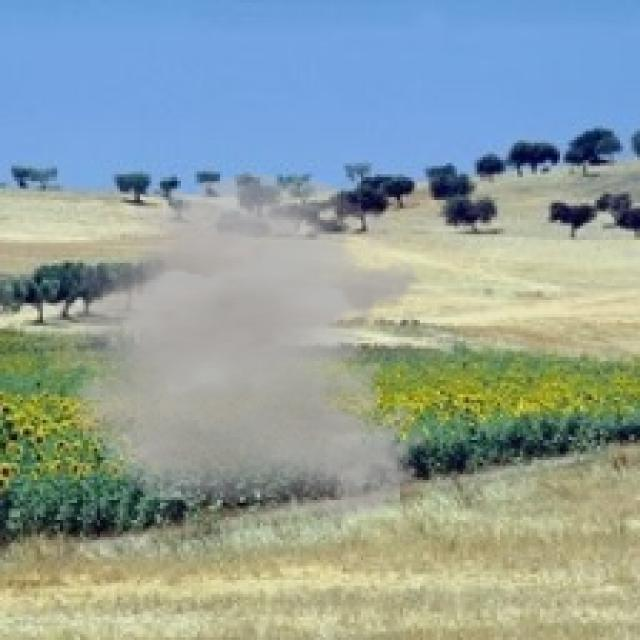smoke: (14, 174, 432, 520)
